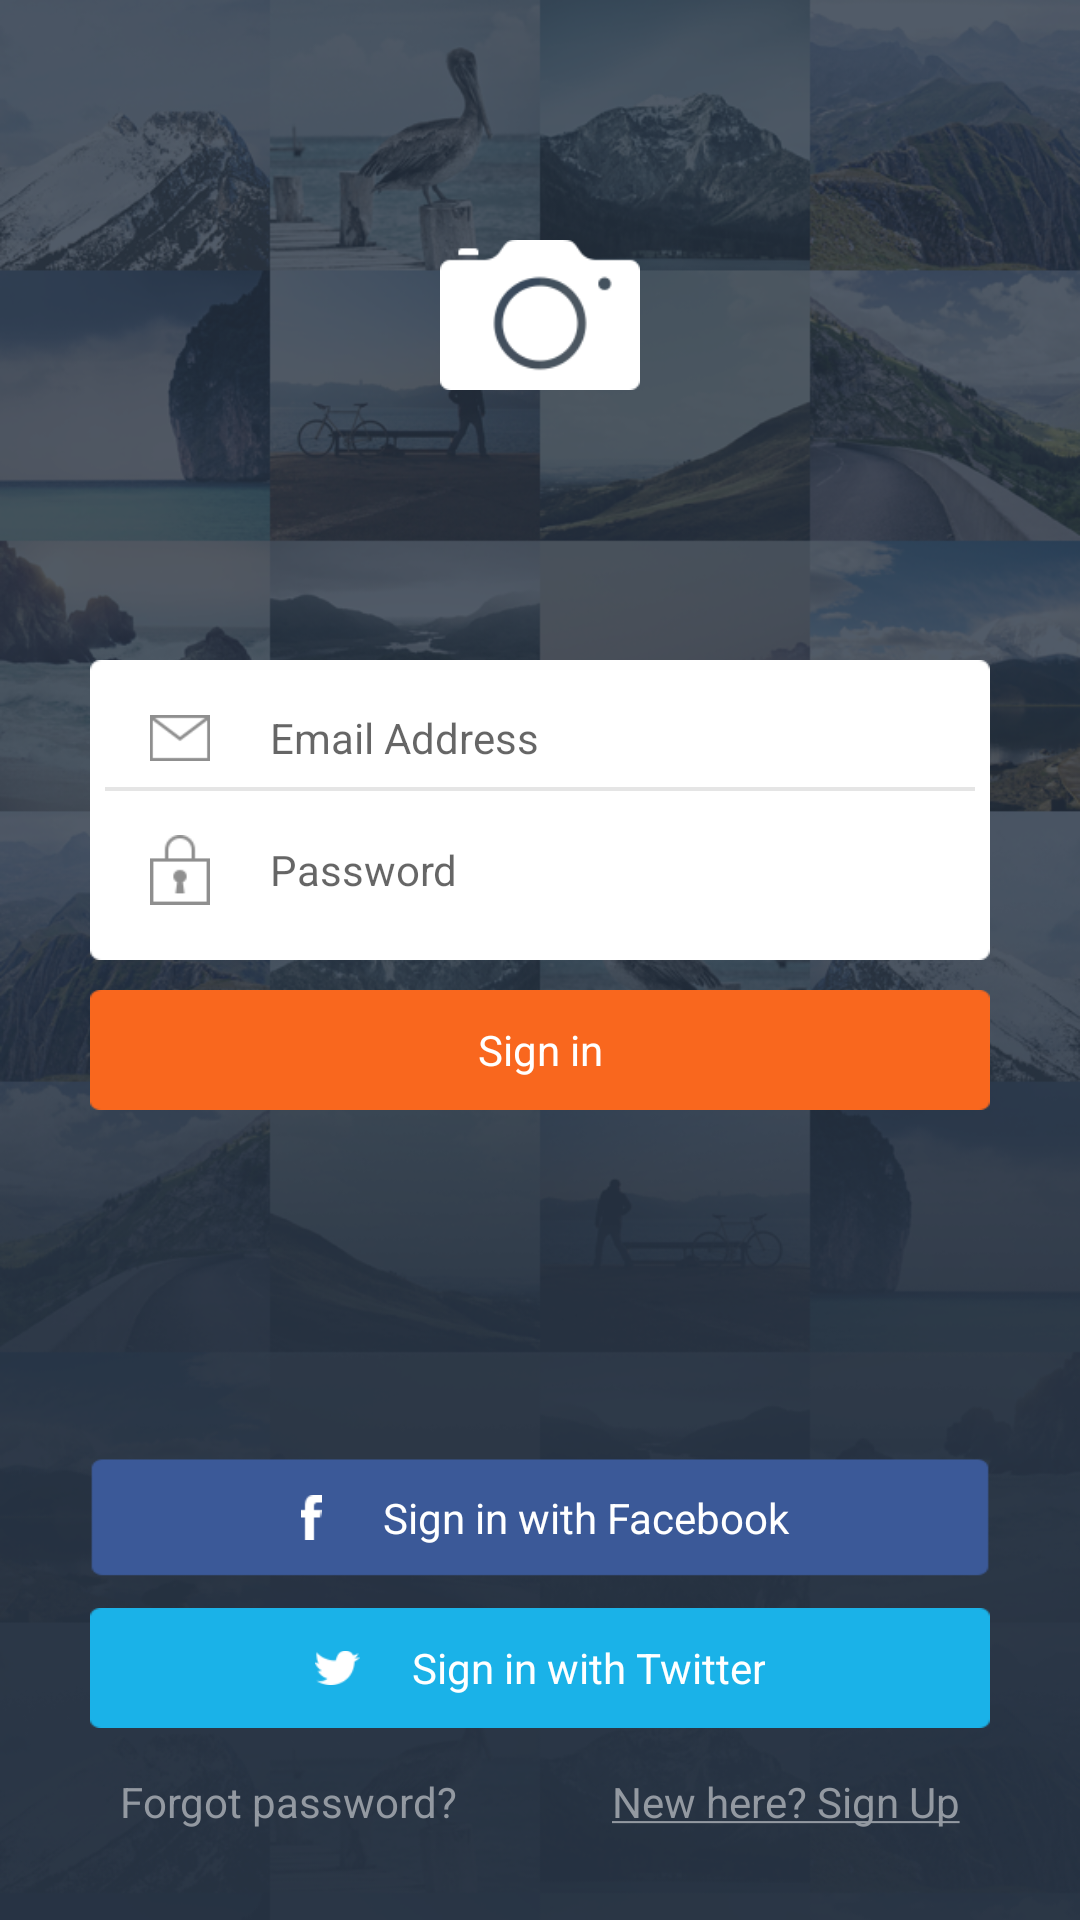

Icons on this 1080x1920 Android screen, each with its box as (x1, y1, x2, y2):
camera: (360, 240, 720, 390)
lock: (150, 835, 210, 905)
